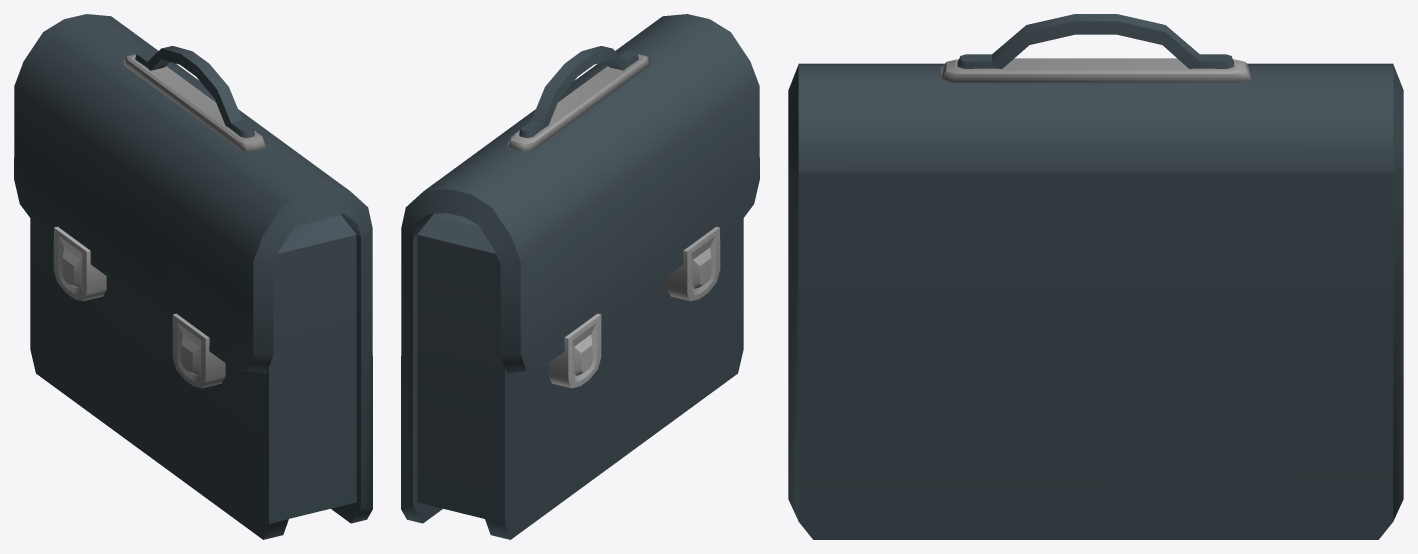
Rendered from Suitcase_1_1_D.fbx.
3 renders of one model, left to right at view 1: azimuth 30°, elevation 25°; view 2: azimuth 150°, elevation 25°; view 3: azimuth 270°, elevation 25°, orthographic. The views are drawn at different scales.
Parts seen in each view (by area): view 1: Suitcase_1_1_D; view 2: Suitcase_1_1_D; view 3: Suitcase_1_1_D.
Boxes of the visible parts, x1=… form: Suitcase_1_1_D: x1=14, y1=14, x2=372, y2=539; Suitcase_1_1_D: x1=401, y1=14, x2=759, y2=539; Suitcase_1_1_D: x1=788, y1=14, x2=1403, y2=539.
Size of the model in its own units: 16.04 by 47.79 by 54.73.
